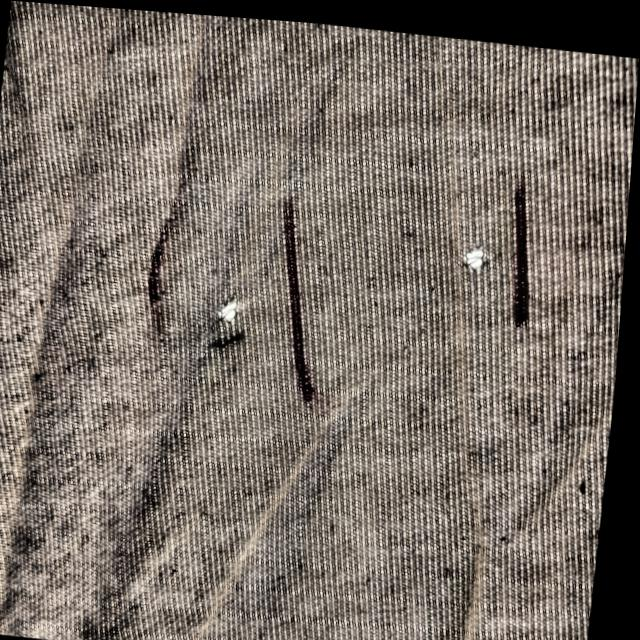Hole: (217, 288, 250, 329), (459, 236, 494, 267)
Stitch: (210, 313, 253, 359)
